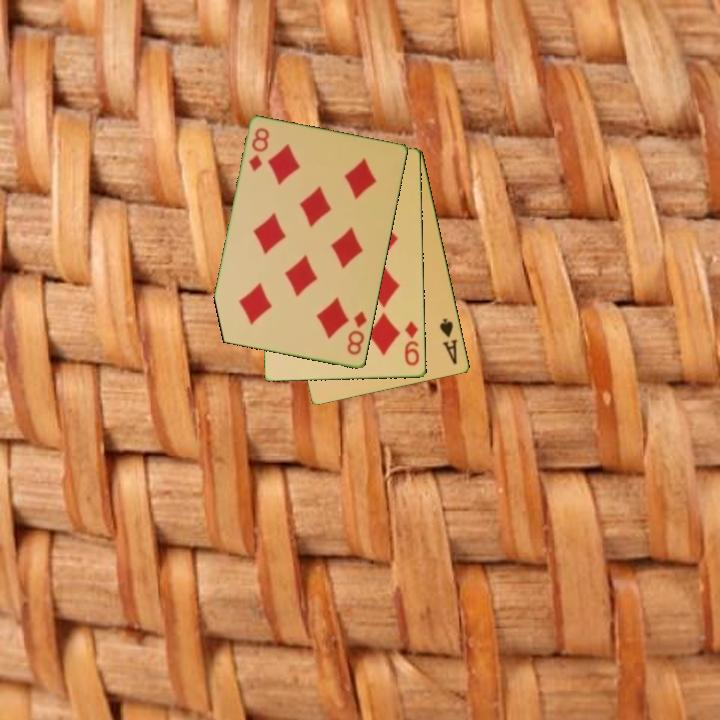8d: (245, 124, 272, 175), (344, 308, 370, 358)
9d: (401, 318, 422, 369)
As: (436, 315, 460, 367)
